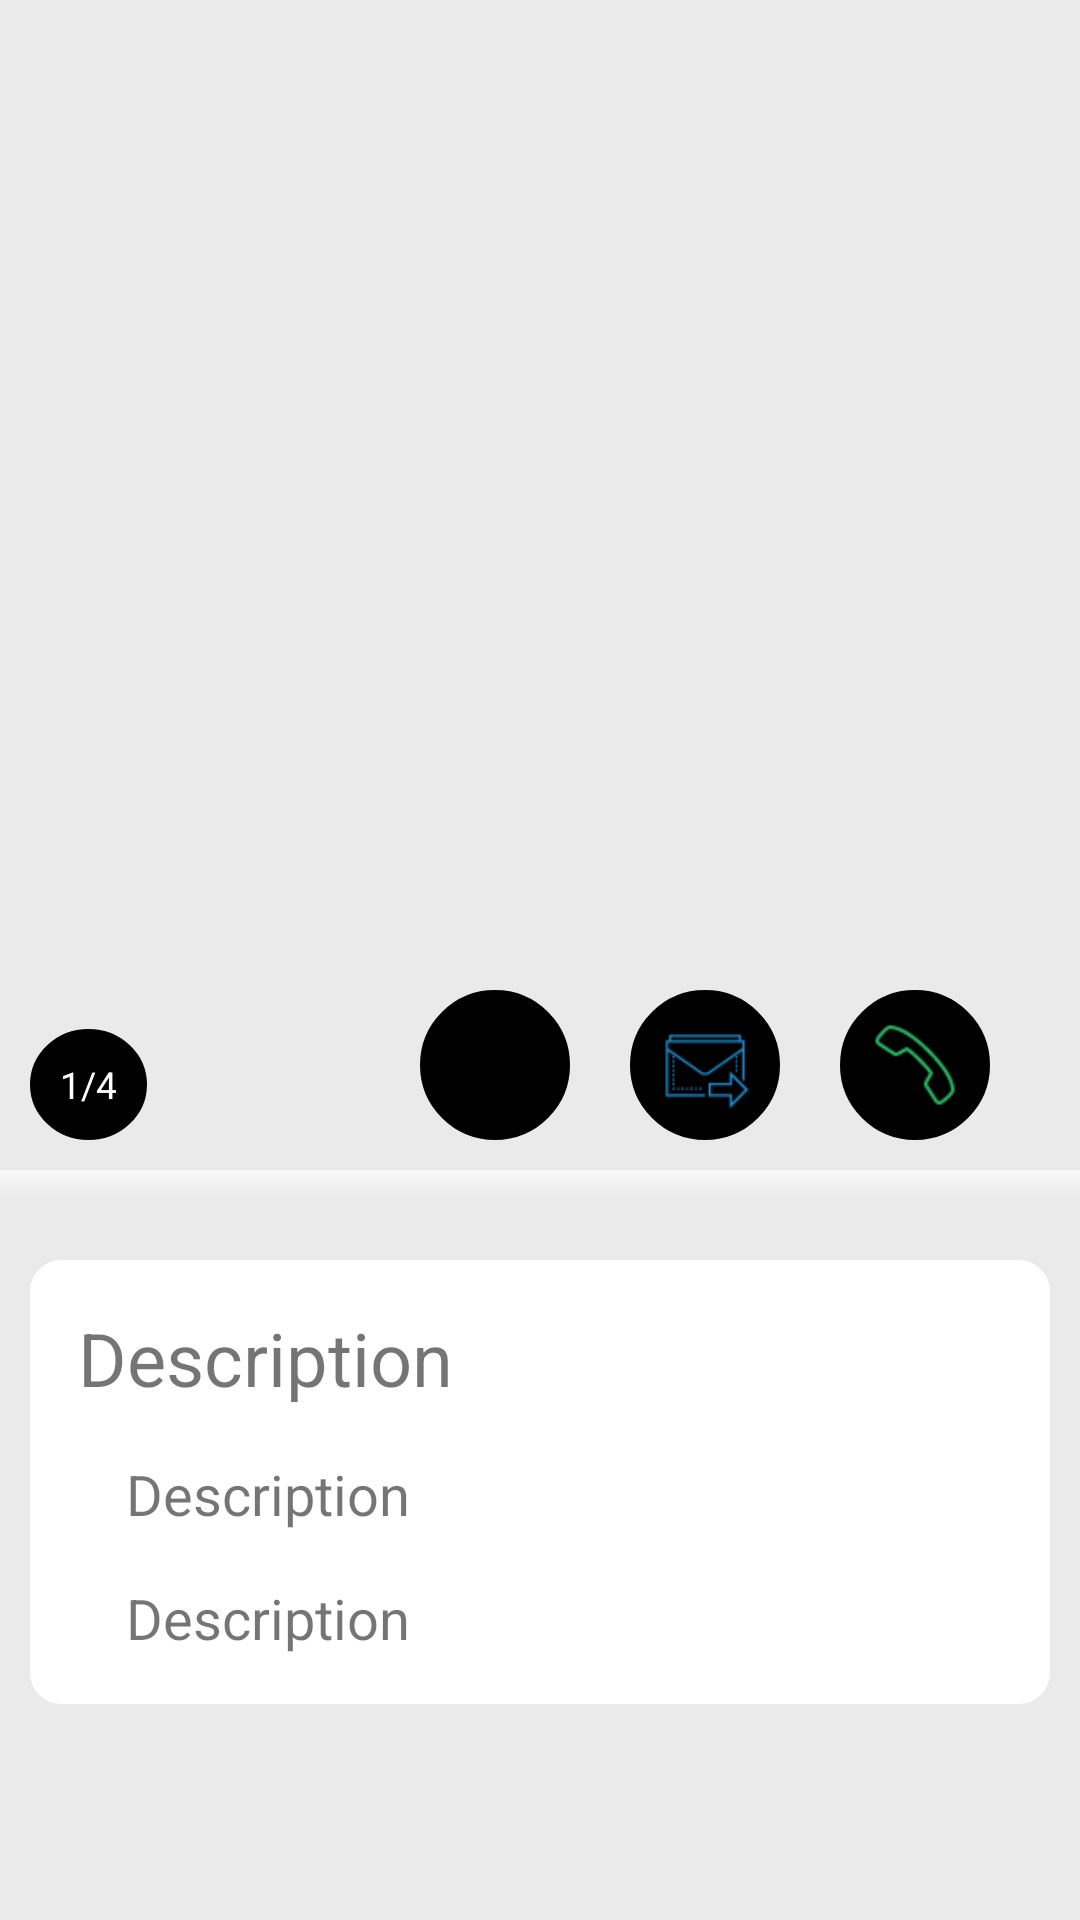

Icon bounding boxes for this 1080*1920 phone screenshot, format (x1, y1, x2, y2):
email: (665, 1034, 749, 1108)
